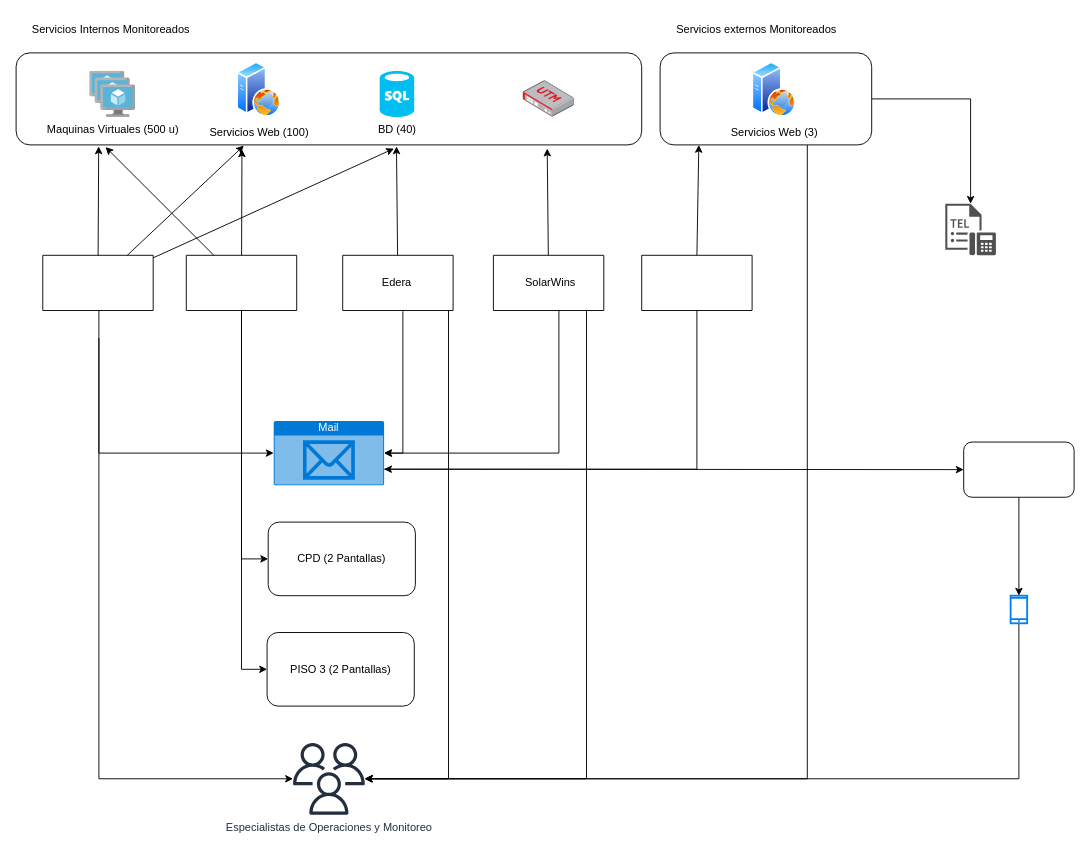
The diagram is 1090 pixels wide and 849 high, and some of its shapes have lost their labels. The shapes that lost their labels are listed below. From the top down, each one's centre as x and y in pixels, then its label:
(x=548, y=98): Equipos Comunicación
(x=97, y=282): Dynatrace
(x=241, y=282): APPManager
(x=696, y=282): Otros
(x=1018, y=469): API
